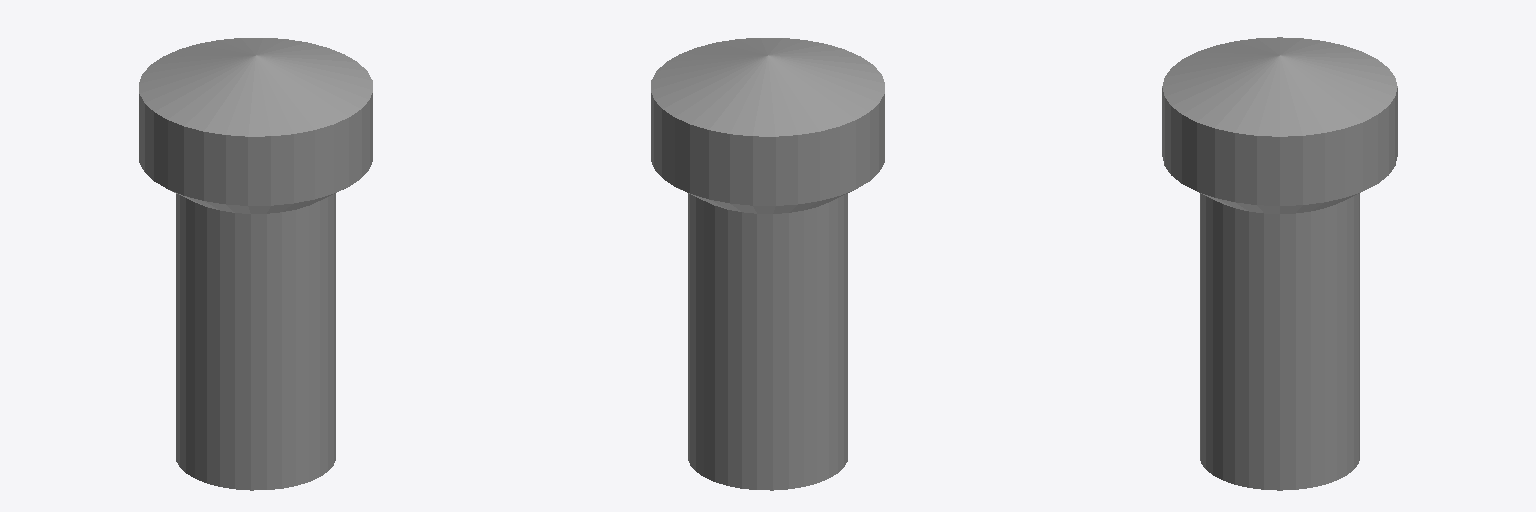
Rendered from CheapTower.obj.
3 renders of one model, left to right at view 1: azimuth 30°, elevation 25°; view 2: azimuth 150°, elevation 25°; view 3: azimuth 270°, elevation 25°, orthographic.
Visible parts, largest first — view 1: Cylinder; view 2: Cylinder; view 3: Cylinder.
Boxes of the visible parts, x1,y1,x2,y2 form: Cylinder: [139, 38, 372, 490]; Cylinder: [651, 38, 884, 490]; Cylinder: [1162, 37, 1397, 490].
Bounding box in the file's own units: 1.06 × 2 × 1.06.